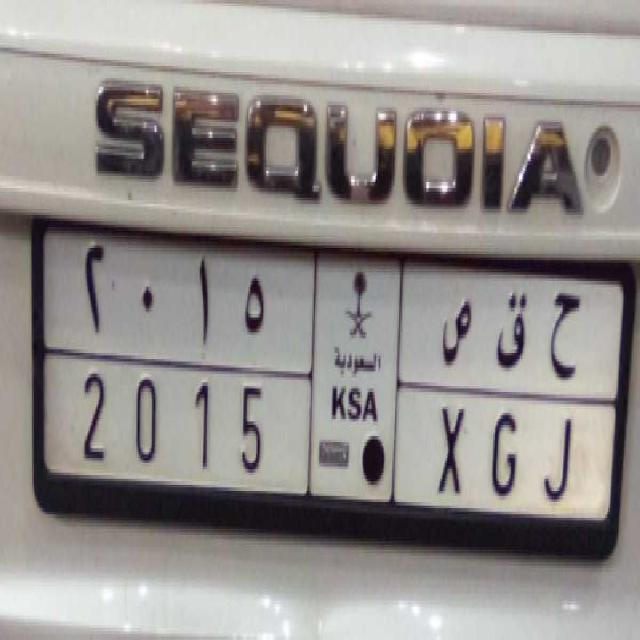license_plate: (51, 356, 586, 509)
